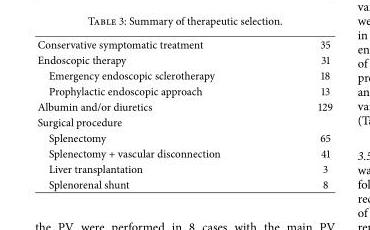table: (36, 36, 331, 191)
table column: (36, 36, 268, 191), (268, 36, 331, 191)
table projected row header: (36, 114, 331, 129)
table row: (36, 51, 331, 67), (36, 82, 331, 98), (36, 98, 331, 114), (36, 129, 331, 145), (36, 160, 331, 176), (36, 36, 331, 51), (36, 67, 331, 82), (36, 114, 331, 129), (36, 145, 331, 160), (36, 176, 331, 191)
